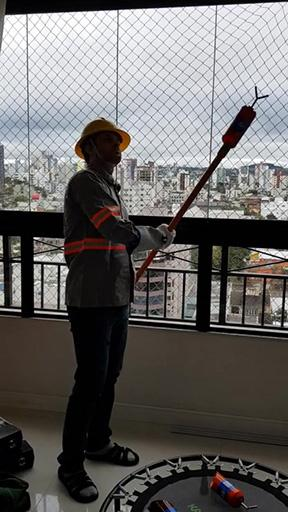Detector_Tensao_Contato: (219, 86, 270, 148)
Vara_Manobra: (131, 148, 229, 283)
